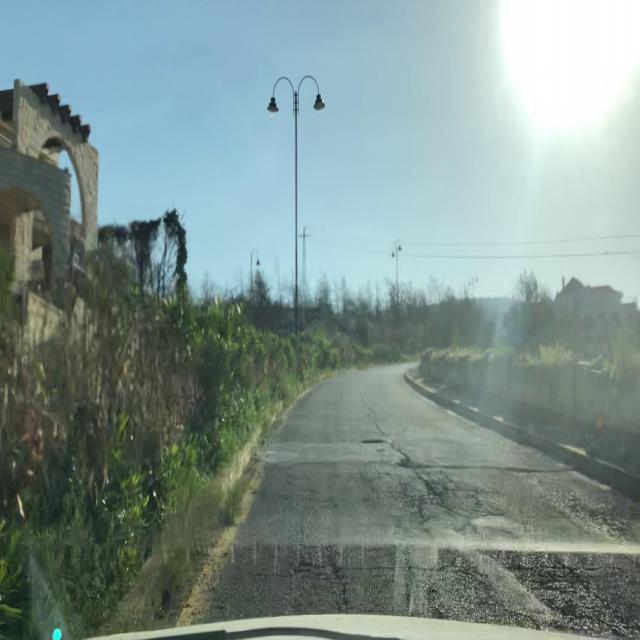Pothole: (359, 436, 388, 447)
